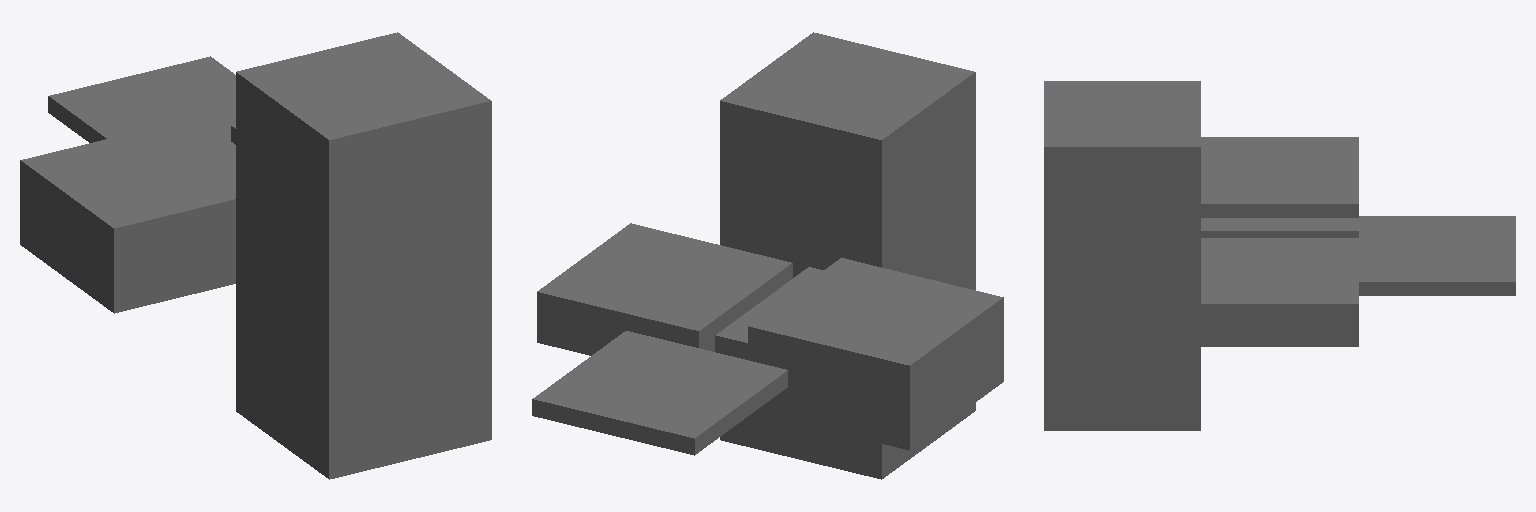
robot.urdf — Floor:
<robot name="Floor">
<link name="robot_base">
    <visual name="box_visual">
        <origin xyz="0.55 0 0" rpy="0 0 0"/>
        <geometry>
            <box size="1 1 0.3"/>
        </geometry>
        <material name="Gray">
            <color rgba="0.5 0.5 0.5 1.0"/>
        </material>
    </visual>
    <collision name="box_collision">
        <origin xyz="0.55 0 0" rpy="0 0 0"/>
        <geometry>
            <box size="1 1 0.3"/>
        </geometry>
    </collision>

    <visual name="box_visual5">
        <origin xyz="-0.75 0 0" rpy="0 0 0"/>
        <geometry>
            <box size="1 1 0.5"/>
        </geometry>
        <material name="Gray">
            <color rgba="0.5 0.5 0.5 1.0"/>
        </material>
    </visual>
    <collision name="box_collision5">
        <origin xyz="-0.75 0 0" rpy="0 0 0"/>
        <geometry>
            <box size="1 1 0.5"/>
        </geometry>
    </collision>

    <visual name="box_visual1">
        <origin xyz="-0.55 0 0" rpy="0 0 0"/>
        <geometry>
            <box size="1 1 0.3"/>
        </geometry>
        <material name="Gray">
            <color rgba="0.5 0.5 0.5 1.0"/>
        </material>
    </visual>
    <collision name="box_collision1">
        <origin xyz="-0.55 0 0" rpy="0 0 0"/>
        <geometry>
            <box size="1 1 0.3"/>
        </geometry>
    </collision>

    <visual name="box_visual2">
        <origin xyz="0 1 0" rpy="0 0 0"/>
        <geometry>
            <box size="1 1 0.1"/>
        </geometry>
        <material name="Gray">
            <color rgba="0.5 0.5 0.5 1.0"/>
        </material>
    </visual>
    <collision name="box_collision2">
        <origin xyz="0 1 0" rpy="0 0 0"/>
        <geometry>
            <box size="1 1 0.1"/>
        </geometry>
    </collision>

    <visual name="box_visual3">
        <origin xyz="0 -1 0" rpy="0 0 0"/>
        <geometry>
            <box size="1 1 2"/>
        </geometry>
        <material name="Gray">
            <color rgba="0.5 0.5 0.5 1.0"/>
        </material>
    </visual>
    <collision name="box_collision3">
        <origin xyz="0 -1 0" rpy="0 0 0"/>
        <geometry>
            <box size="1 1 2"/>
        </geometry>
    </collision>
</link>
</robot>

--- Facts derived from the render (not from the file) ---
Views: 3 orthographic renders of the robot side by side, from view 1: azimuth 30°, elevation 25°; view 2: azimuth 150°, elevation 25°; view 3: azimuth 270°, elevation 25°.
Model Floor with 1 links and 0 joints (none), rooted at robot_base, posed all joints at 0.
Links seen in each view (by area): view 1: robot_base; view 2: robot_base; view 3: robot_base.
Boxes of the visible links, x1,y1,x2,y2 form: robot_base: (20,32,491,479); robot_base: (532,32,1003,479); robot_base: (1044,81,1515,430).
Size in the robot's own frame: 2.3 by 3 by 2 metres.
Geometry: primitives only (box / cylinder / sphere), no mesh files.